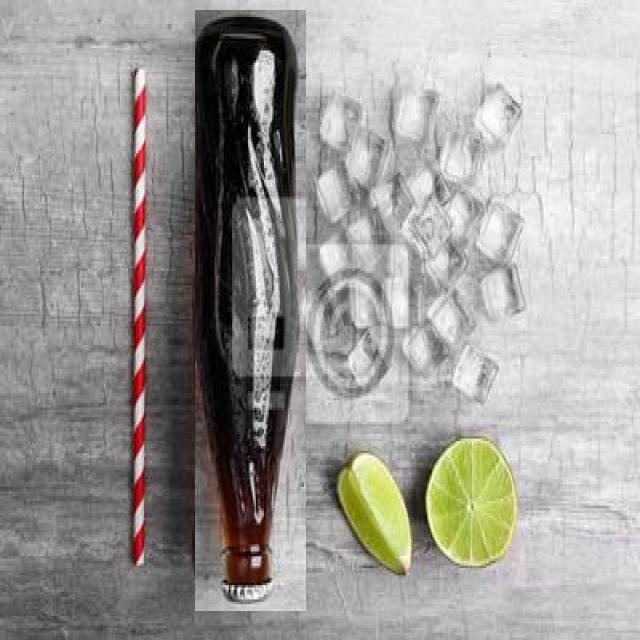coca-cola: (195, 10, 306, 611)
